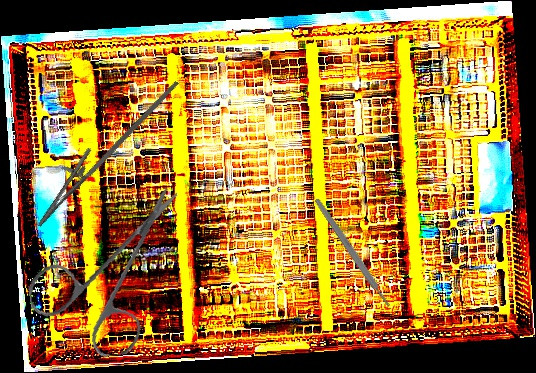Iris Scissors: (16, 186, 201, 368)
Needle Holder: (24, 56, 180, 243)
Scalpel Handle: (313, 197, 392, 309)
